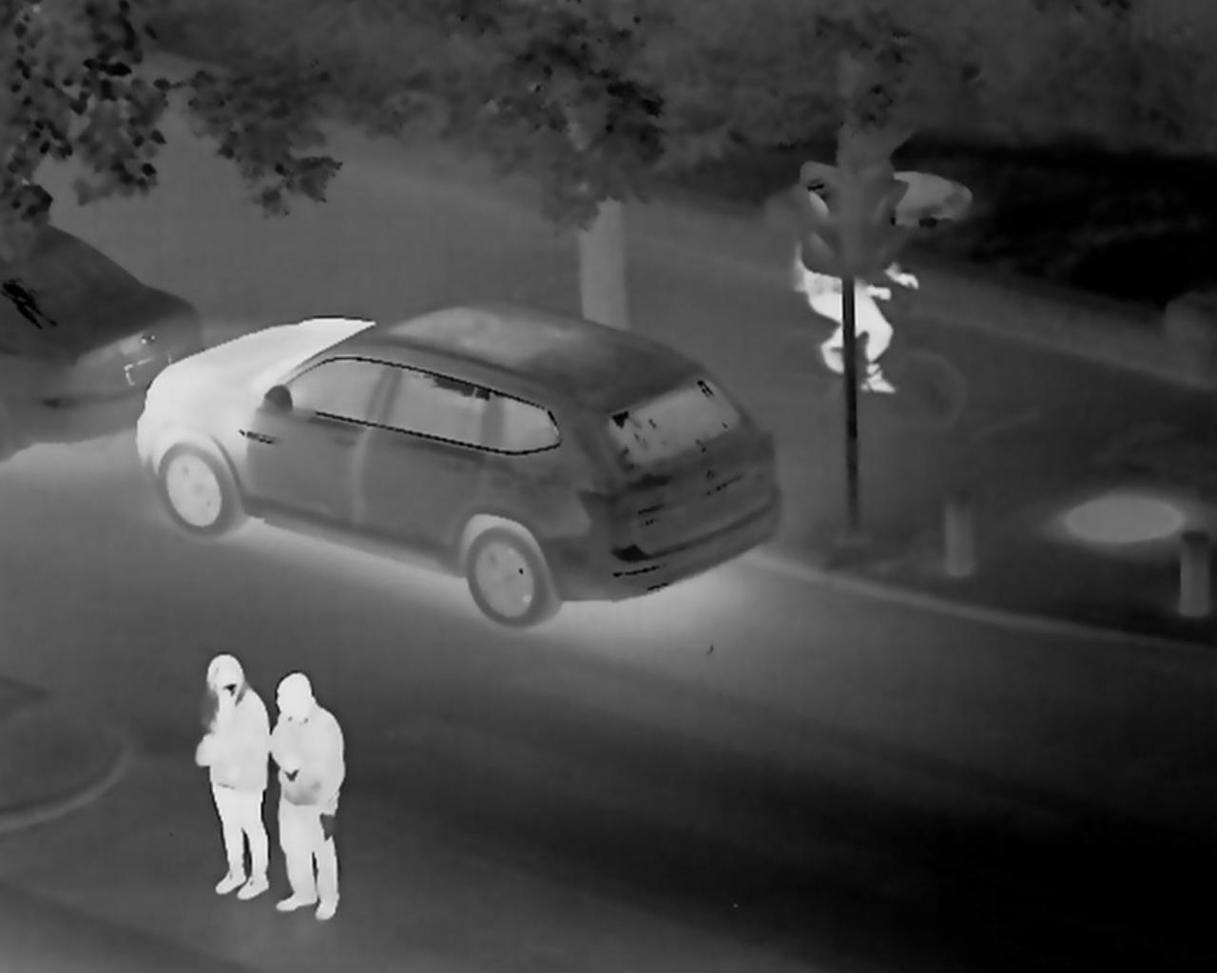person: (790, 242, 920, 398), (190, 650, 269, 900), (268, 671, 346, 921)
